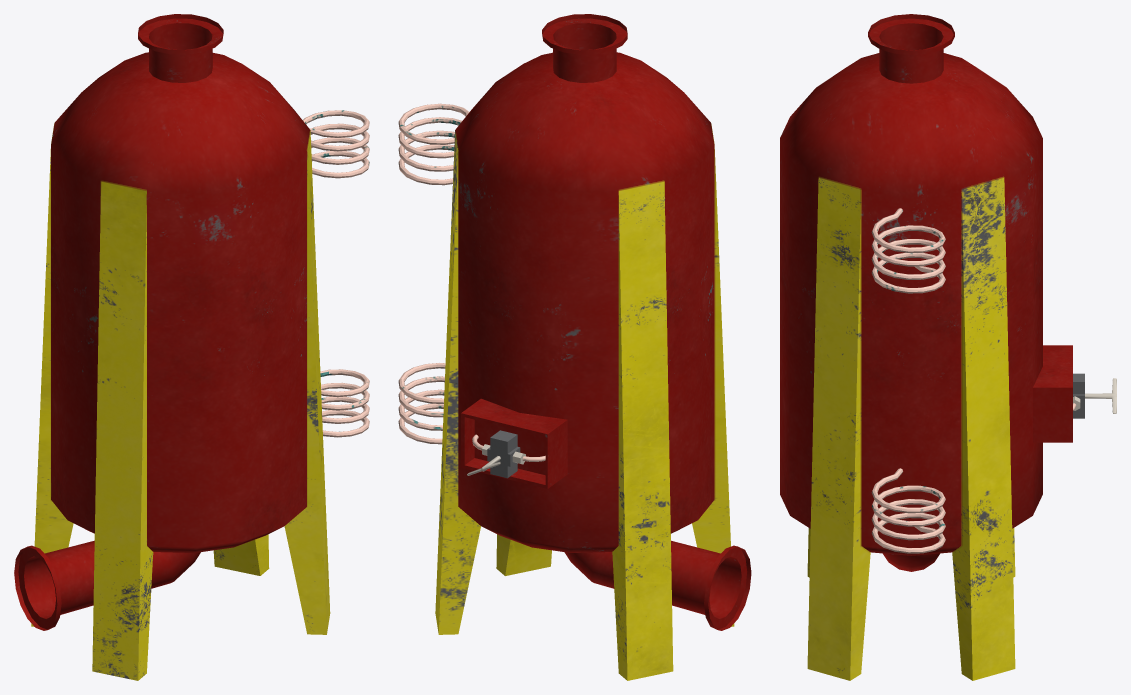
File: tankUpright.fbx
3 views of the same model, side by side, from view 1: azimuth 30°, elevation 25°; view 2: azimuth 150°, elevation 25°; view 3: azimuth 270°, elevation 25° (orthographic).
Parts seen in each view (by area): view 1: pSphere5; view 2: pSphere5; view 3: pSphere5.
Part boxes in pixels (x1,y1,x2,y2): pSphere5: (14, 14, 369, 680); pSphere5: (398, 14, 751, 680); pSphere5: (780, 14, 1116, 680).
Size of the model in its own units: 1.88 by 3.23 by 1.67.
